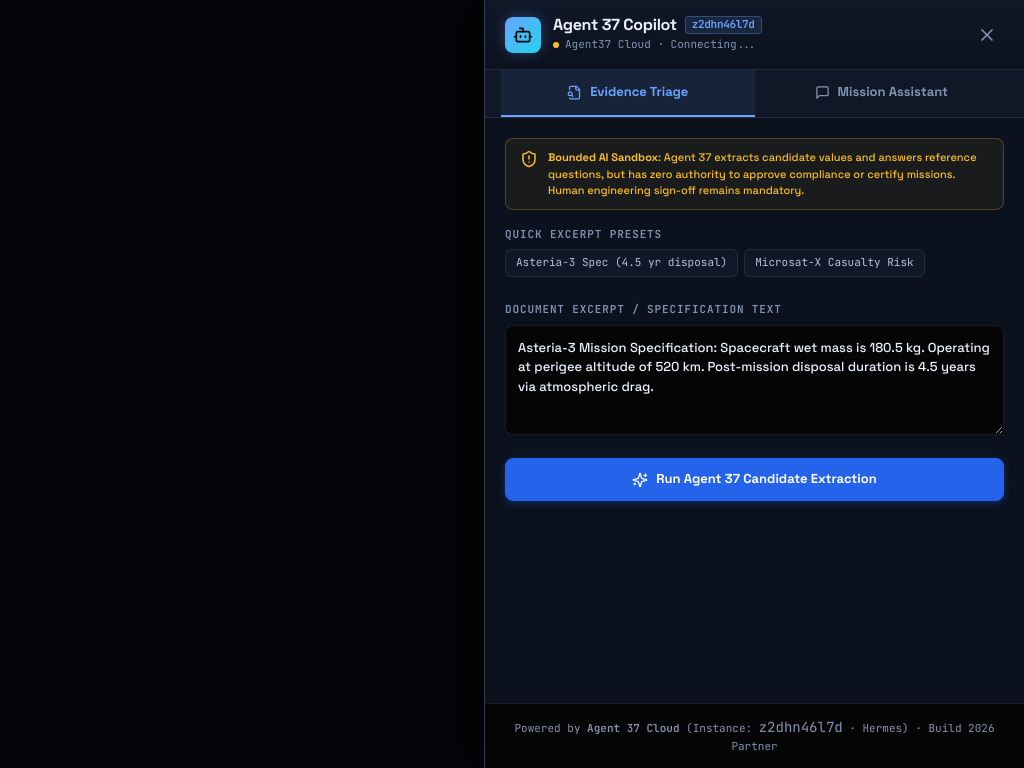
Test case: Agent 37 Copilot Integration › switches between Evidence Triage and Mission Assistant tabs
What coordinates should you click on to do the following:
click the tab "Mission Assistant"
I would click on:
 (881, 94)
Its box is [754,70,1008,117].
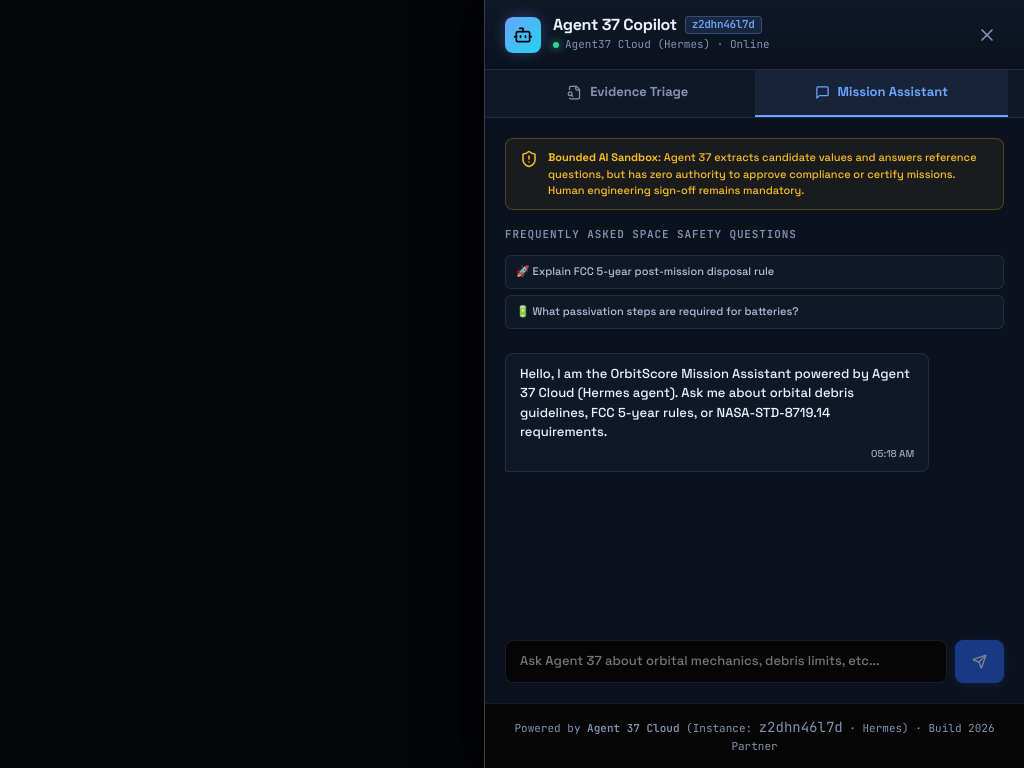
Check: the text "Frequently Asked Space Safety Questions" is shown, box [505,227,797,241]
Check: the field with placeholder "Ask Agent 37 about orbital mechanics, debris limits, etc..." is shown, box [505,640,947,683]
